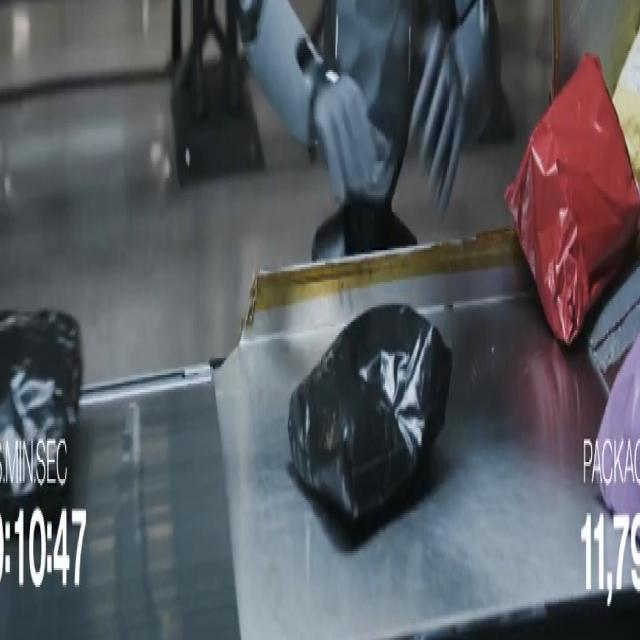package: (505, 56, 639, 345), (288, 306, 452, 523), (0, 312, 82, 508), (592, 340, 639, 521), (613, 32, 639, 180)
